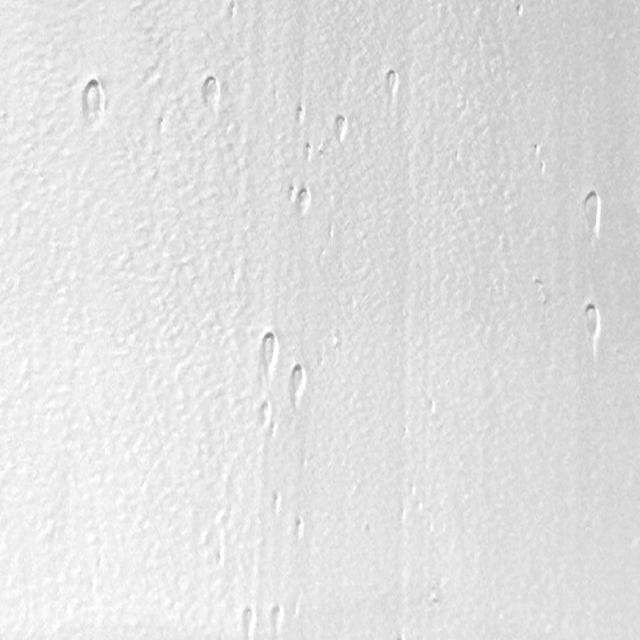pin holes: (80, 74, 110, 126), (578, 188, 605, 239), (578, 300, 604, 350), (198, 73, 223, 115), (255, 332, 279, 372), (266, 602, 288, 634), (292, 184, 314, 215), (287, 366, 307, 398), (330, 115, 350, 145), (238, 605, 258, 635), (382, 68, 403, 95), (254, 401, 272, 428), (223, 0, 241, 22), (511, 0, 528, 22), (268, 489, 284, 511), (291, 517, 306, 540), (292, 104, 307, 125), (302, 140, 317, 160), (530, 141, 544, 157)
